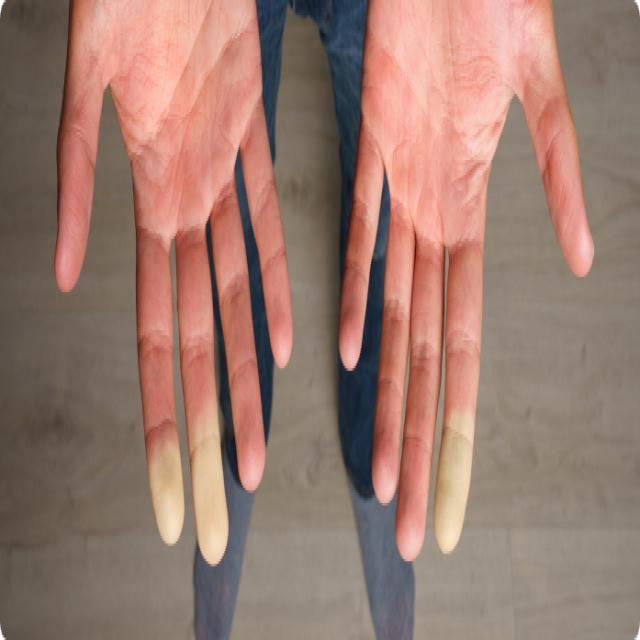raynauds: (422, 397, 478, 555), (186, 429, 240, 564), (142, 431, 188, 554)
